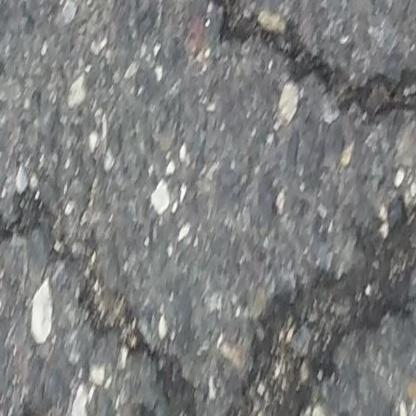Cracks: (0, 183, 209, 416), (223, 192, 416, 416), (194, 0, 416, 133), (9, 399, 88, 416)
